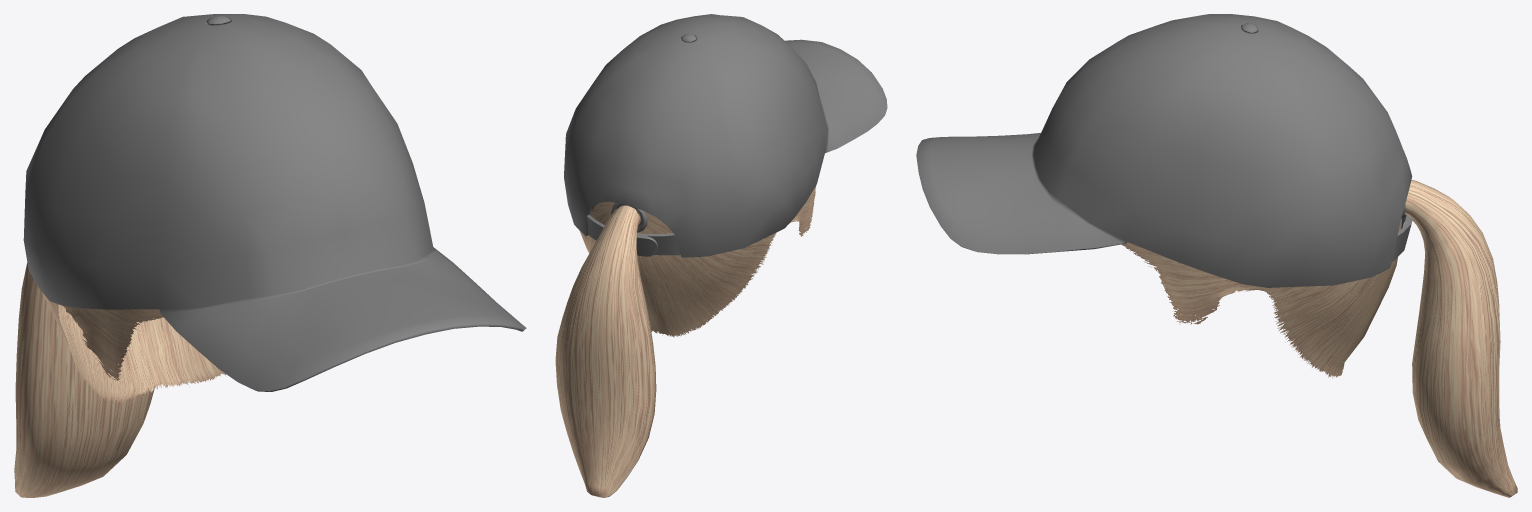
File: BaseballHat_Hair_01.obj
3 views of the same model, side by side, from view 1: azimuth 30°, elevation 25°; view 2: azimuth 150°, elevation 25°; view 3: azimuth 270°, elevation 25° (orthographic). The views are drawn at different scales.
Bounding box in the file's own units: 16.47 × 28.49 × 32.49.
